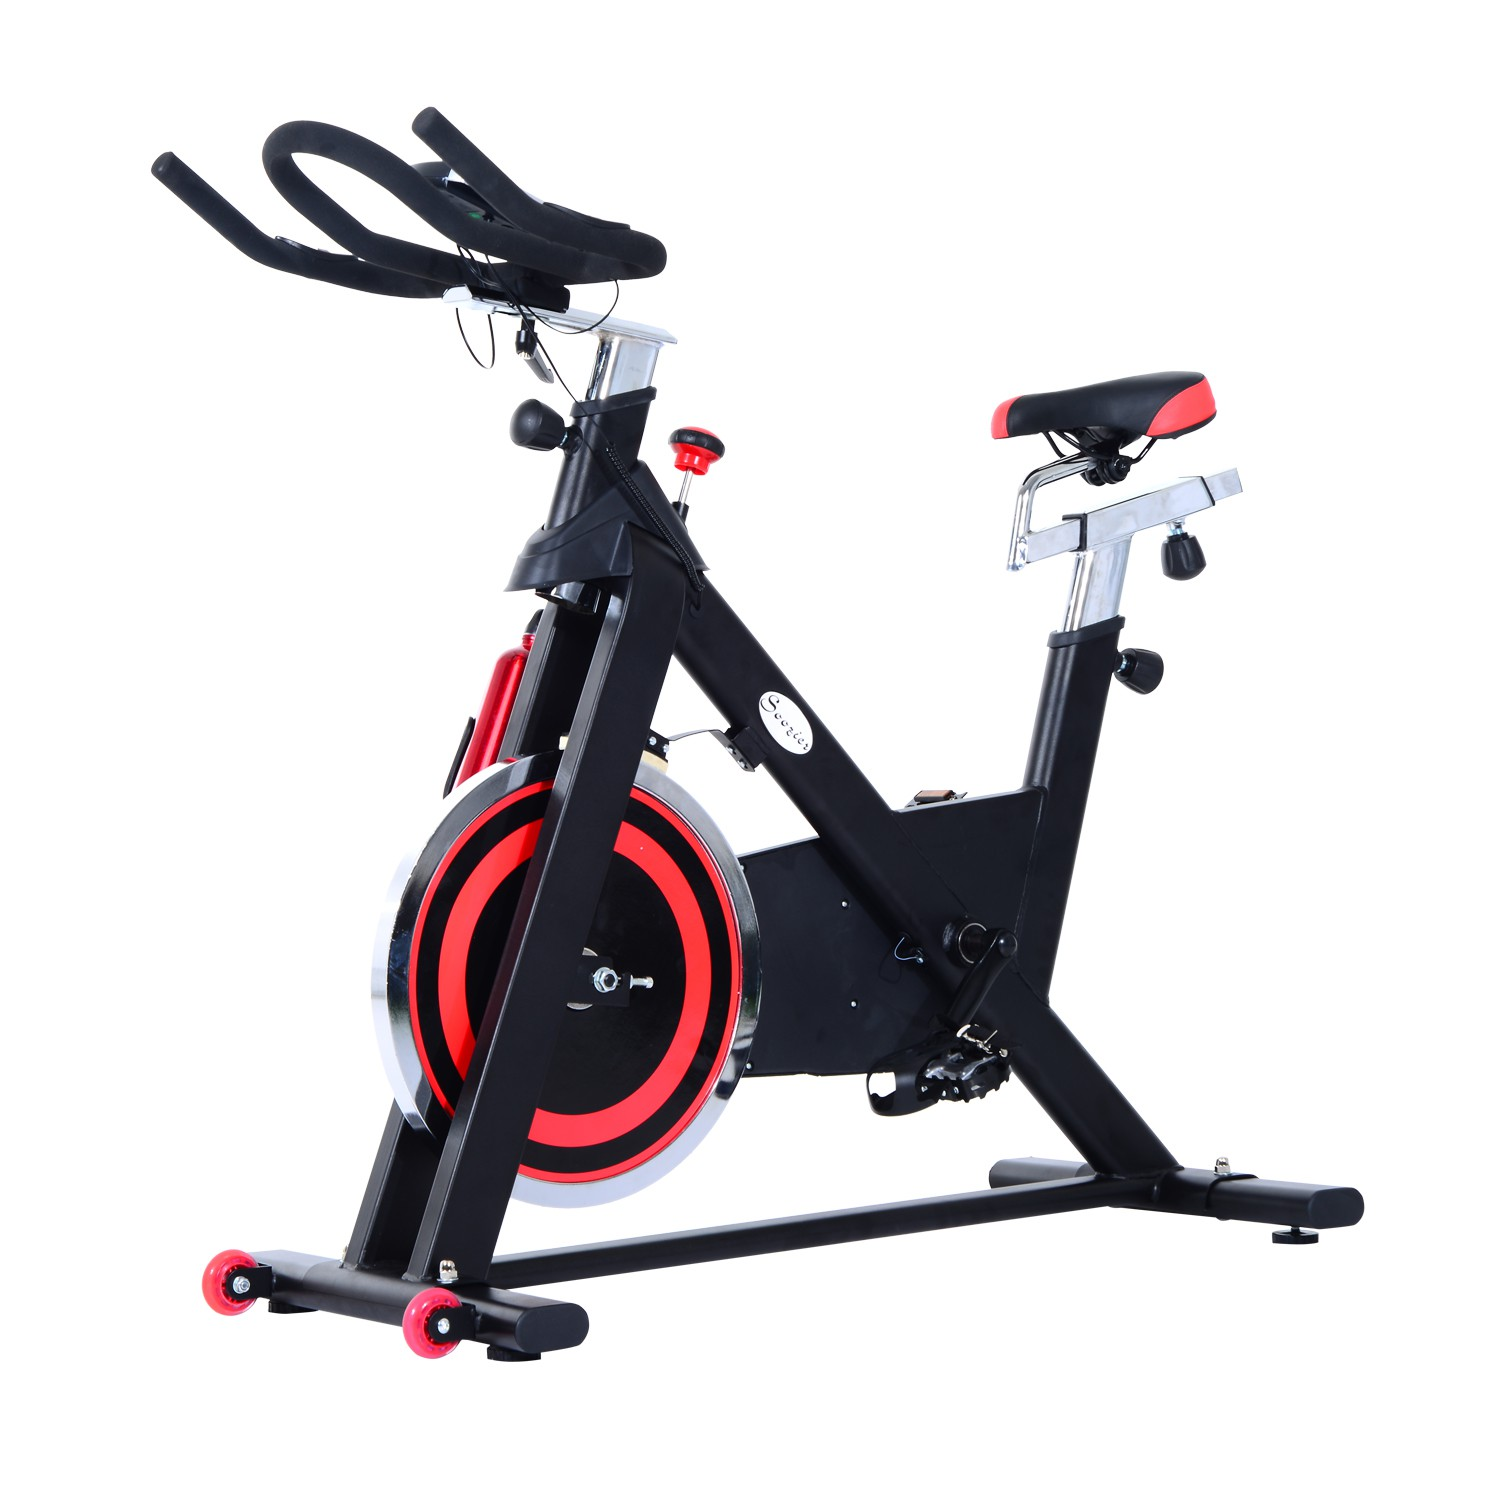gym_bike: (113, 88, 1343, 1371)
